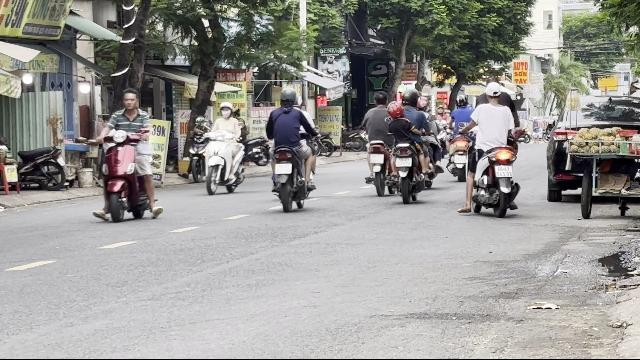helmet: (386, 101, 406, 121), (400, 88, 420, 106), (278, 88, 296, 106), (218, 101, 234, 117)
licenseplate: (274, 164, 292, 174), (496, 166, 512, 176), (396, 158, 410, 166)
motorcyclist: (92, 87, 162, 223), (461, 79, 523, 217), (265, 86, 319, 210), (387, 84, 435, 202), (202, 99, 248, 195)
nohelmet: (484, 80, 504, 103), (121, 88, 139, 112)
